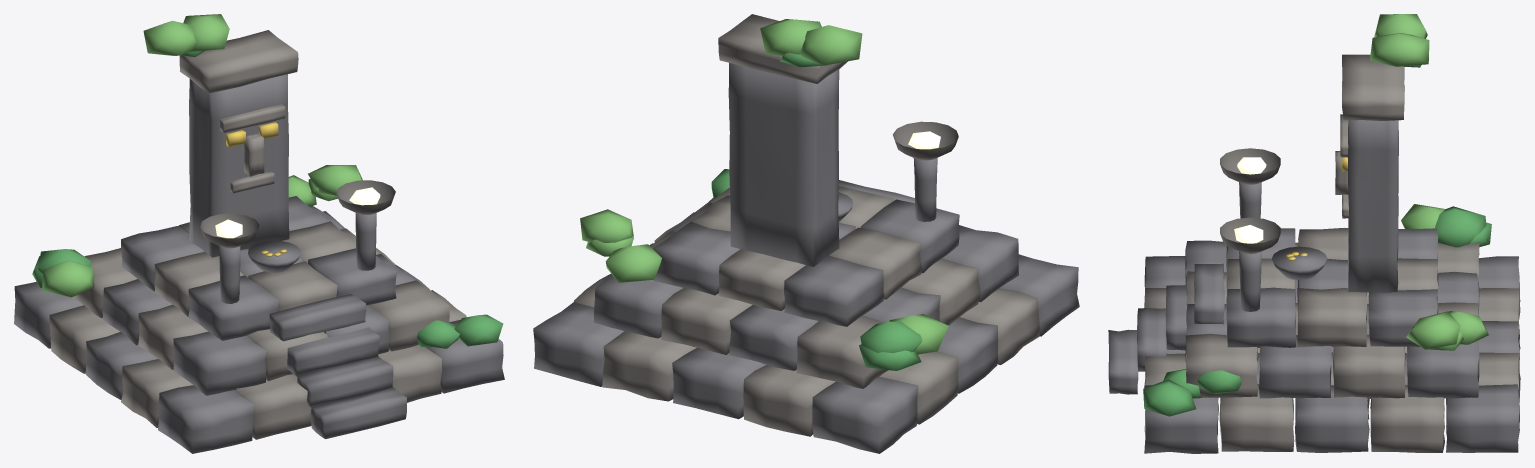
The model's file is poi_jungle_shrine.glb.
3 views of the same model, side by side, from view 1: azimuth 30°, elevation 25°; view 2: azimuth 150°, elevation 25°; view 3: azimuth 270°, elevation 25° (orthographic). The views are drawn at different scales.
Parts seen in each view (by area): view 1: poi_jungle_shrine; view 2: poi_jungle_shrine; view 3: poi_jungle_shrine.
Boxes of the visible parts, box(x1,y1,x2,y2) form: poi_jungle_shrine: box(14, 14, 504, 453); poi_jungle_shrine: box(533, 14, 1079, 453); poi_jungle_shrine: box(1108, 14, 1520, 453).
Bounding box in the file's own units: 4.86 × 4.49 × 5.03.
